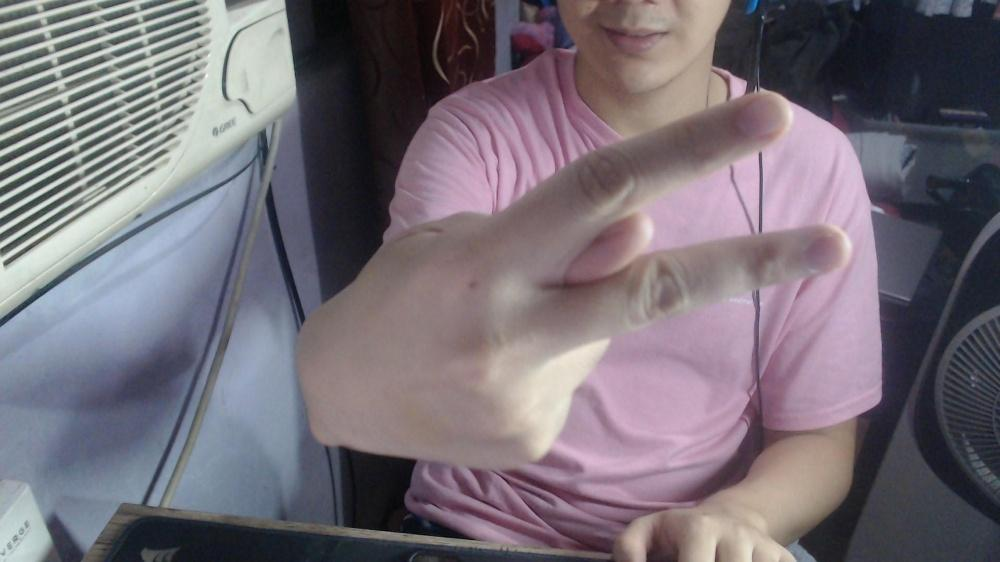k: (292, 89, 855, 469)
